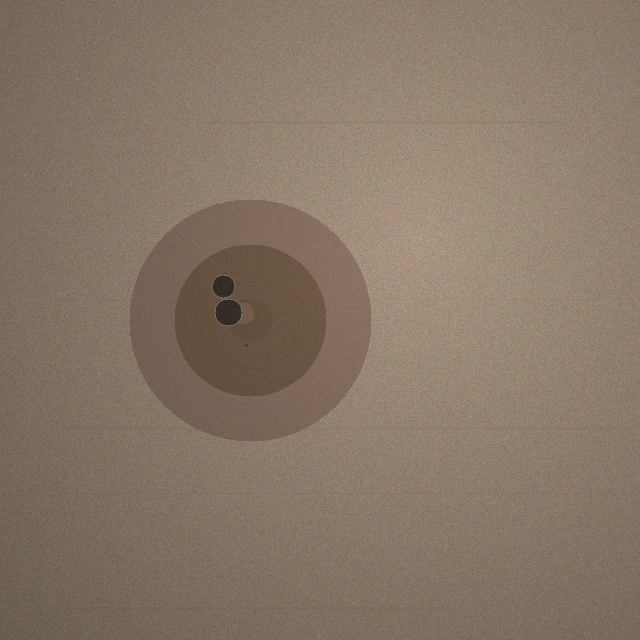shrinkage: (129, 199, 371, 441)
